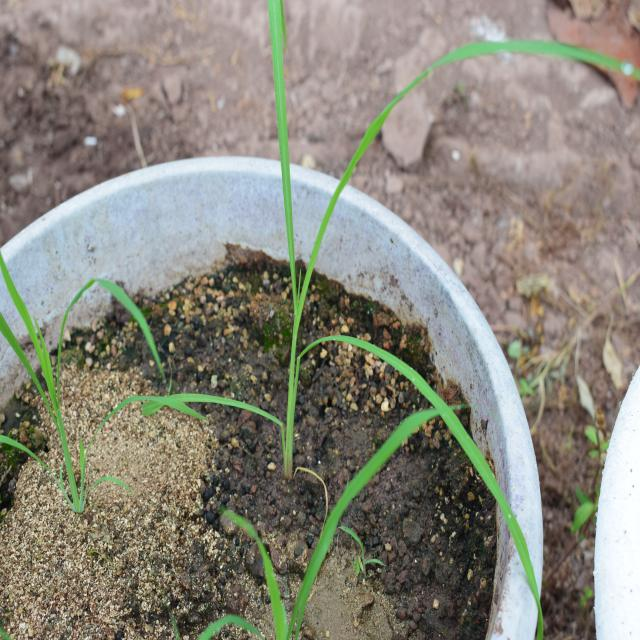barnyard_grass: (219, 0, 529, 535)
